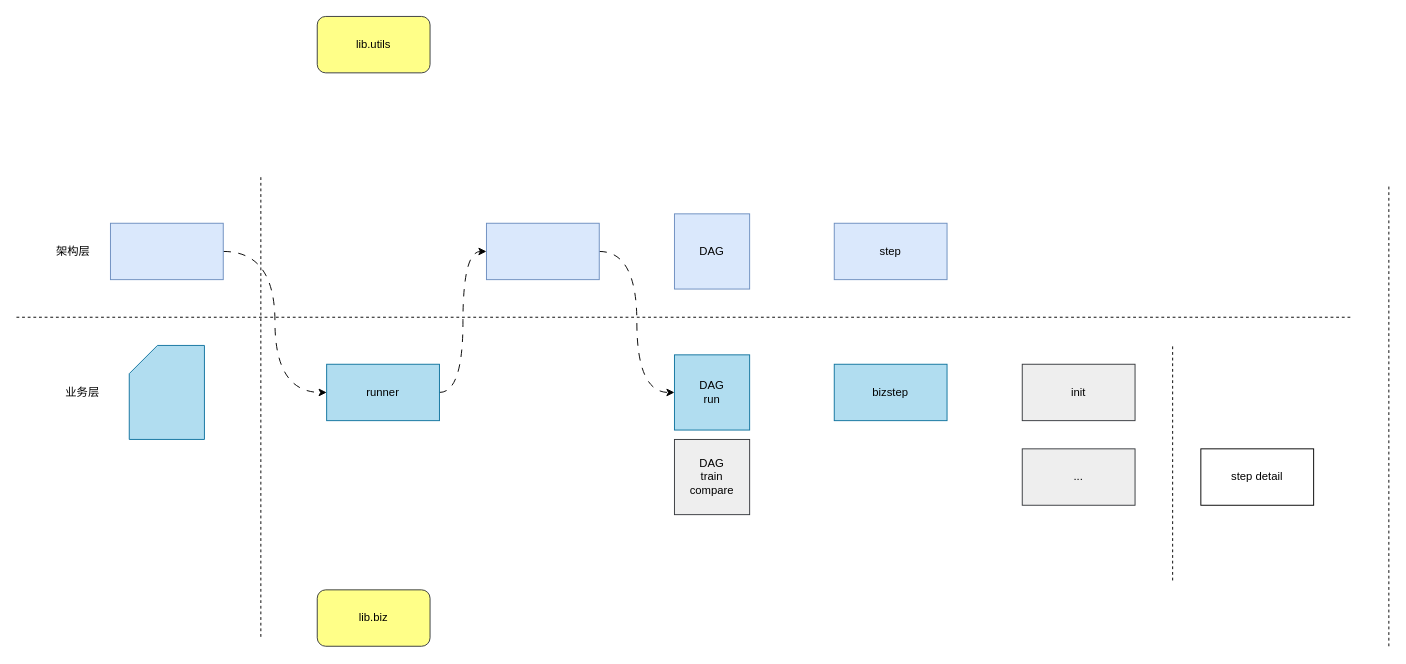
Some shapes in this 1406 by 664 pixel diagram are drawn without their labels. Each missing label, with the centre of its shape:
file: point 166,392
pipeline: point 542,251
scheduler: point 166,251
